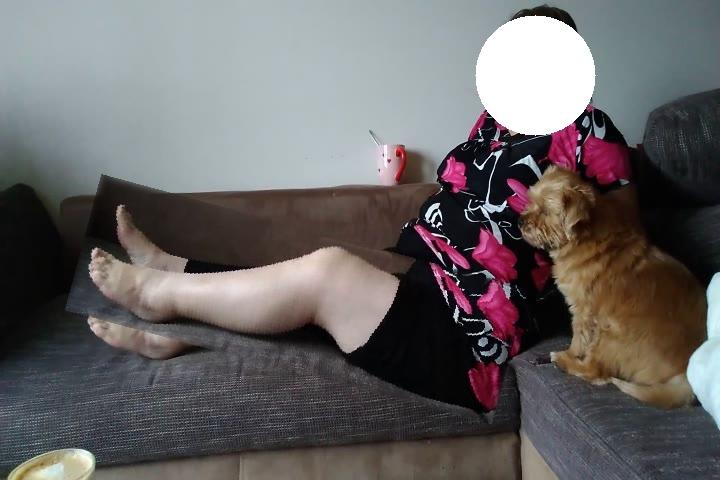lower_body: (71, 203, 525, 398)
